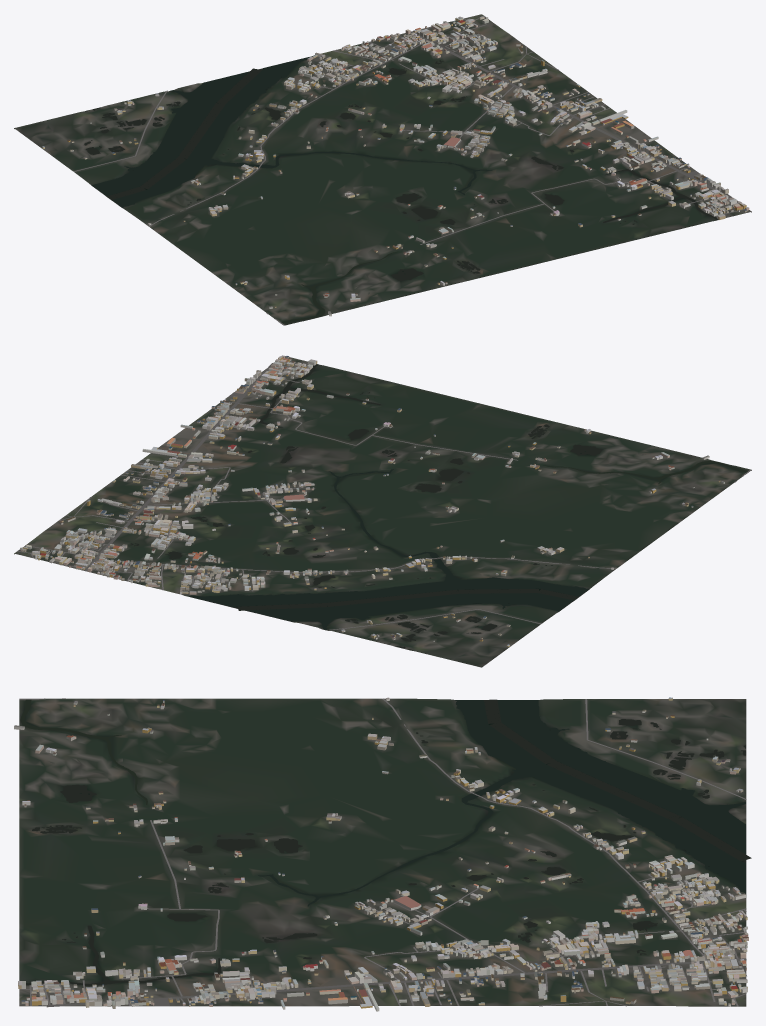
3 views of the same model, one above another, from view 1: azimuth 30°, elevation 25°; view 2: azimuth 150°, elevation 25°; view 3: azimuth 270°, elevation 25° (orthographic). The views are drawn at different scales.
Parts seen in each view (by area): view 1: ground, buildings, water, roads; view 2: ground, buildings, water, roads; view 3: ground, buildings, water, roads.
Part boxes in pixels (bbox=[...]): ground: bbox=[14, 14, 751, 325]; buildings: bbox=[42, 16, 749, 316]; water: bbox=[84, 57, 718, 323]; roads: bbox=[73, 16, 744, 325]; ground: bbox=[14, 356, 751, 667]; buildings: bbox=[20, 355, 724, 647]; water: bbox=[130, 364, 747, 650]; roads: bbox=[17, 361, 751, 630]; ground: bbox=[19, 698, 746, 1006]; buildings: bbox=[14, 697, 748, 1011]; water: bbox=[20, 699, 751, 986]; roads: bbox=[19, 698, 746, 1007].
Bounding box in the file's own units: 1426 × 18.84 × 1421.
